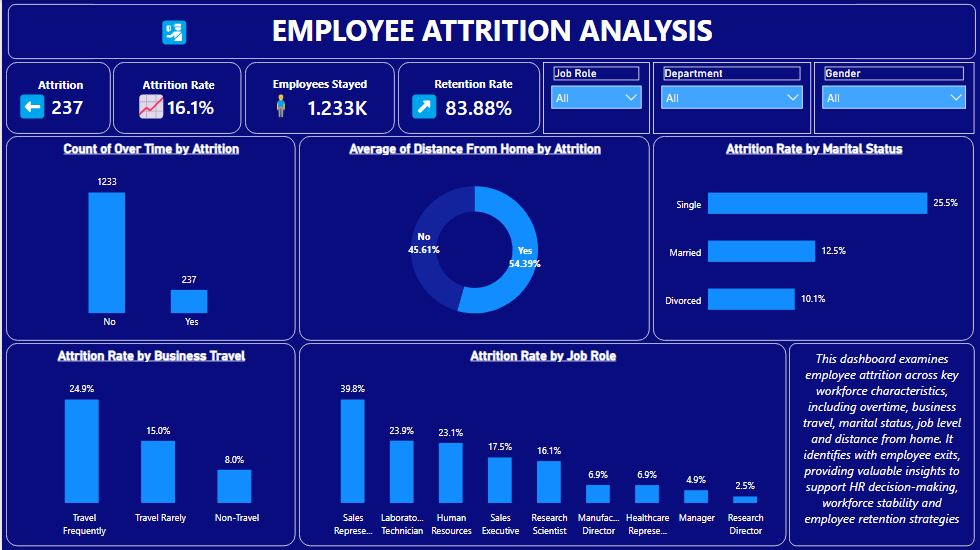

The page's visual inventory and layout, read from the dashboard file:
{"tool":"powerbi","page":{"name":"Employee Attrition Analysis","canvas":[1280,720],"ordinal":2},"visuals":[{"type":"cardVisual","fields":{"Data":["HR Measure.Employees Who Left"]},"box":[5.8,80.6,136.8,93.6],"z":0},{"type":"cardVisual","fields":{"Data":["HR Measure.Attrition Rate"]},"box":[145.4,80.6,168.5,93.6],"z":1000},{"type":"cardVisual","fields":{"Data":["HR Measure.Employees Who Stayed"]},"box":[318.2,80.6,195.8,93.6],"z":2000},{"type":"cardVisual","fields":{"Data":["HR Measure.Retention Rate"]},"box":[518.4,80.6,185.8,93.6],"z":3000},{"type":"textbox","box":[7.2,5.8,1267.2,72],"z":4000},{"type":"clusteredColumnChart","fields":{"Category":["HR Data.Attrition"],"Y":["CountNonNull(HR Data.Over Time)"]},"box":[5.8,178.6,378.7,267.8],"z":5000},{"type":"clusteredColumnChart","fields":{"Y":["HR Measure.Attrition Rate"],"Category":["HR Data.Business Travel"]},"box":[5.8,449.3,378.7,266.4],"z":6000},{"type":"clusteredBarChart","fields":{"Category":["HR Data.Marital Status"],"Y":["HR Measure.Attrition Rate"]},"box":[852.5,178.6,420.5,267.8],"z":7000},{"type":"clusteredColumnChart","fields":{"Y":["HR Measure.Attrition Rate"],"Category":["HR Data.Job Role"]},"box":[388.8,449.3,637.9,266.4],"z":8000},{"type":"donutChart","fields":{"Category":["HR Data.Attrition"],"Y":["Avg(HR Data.Distance From Home)"]},"box":[388.8,178.6,459.4,267.8],"z":9000},{"type":"slicer","fields":{"Values":["HR Data.Department"]},"box":[852.5,80.6,207.4,93.6],"z":10000},{"type":"slicer","fields":{"Values":["HR Data.Job Role"]},"box":[708.5,80.6,139.7,93.6],"z":11000},{"type":"slicer","fields":{"Values":["HR Data.Gender"]},"box":[1062.7,80.6,210.2,93.6],"z":12000},{"type":"textbox","box":[1029.6,449.3,243.4,266.4],"z":13000},{"type":"textbox","box":[5.8,109.4,69.1,56.2],"z":14000},{"type":"textbox","box":[161.3,109.4,69.1,56.2],"z":15000},{"type":"textbox","box":[331.2,109.4,69.1,56.2],"z":16000},{"type":"textbox","box":[518.4,109.4,69.1,56.2],"z":17000},{"type":"textbox","box":[191.5,13,69.1,56.2],"z":18000}]}

Visuals, with their boxes in screenshot pixels (x1, y1, x2, y2), scaled from the page's 1280x720 canvas onto the 980x550 screenshot:
cardVisual - HR Measure.Employees Who Left: box=[4, 62, 109, 133]
cardVisual - HR Measure.Attrition Rate: box=[111, 62, 240, 133]
cardVisual - HR Measure.Employees Who Stayed: box=[244, 62, 394, 133]
cardVisual - HR Measure.Retention Rate: box=[397, 62, 539, 133]
textbox: box=[6, 4, 976, 59]
clusteredColumnChart - HR Data.Attrition x CountNonNull(HR Data.Over Time): box=[4, 136, 294, 341]
clusteredColumnChart - HR Measure.Attrition Rate x HR Data.Business Travel: box=[4, 343, 294, 547]
clusteredBarChart - HR Data.Marital Status x HR Measure.Attrition Rate: box=[653, 136, 975, 341]
clusteredColumnChart - HR Measure.Attrition Rate x HR Data.Job Role: box=[298, 343, 786, 547]
donutChart - HR Data.Attrition x Avg(HR Data.Distance From Home): box=[298, 136, 649, 341]
slicer - HR Data.Department: box=[653, 62, 811, 133]
slicer - HR Data.Job Role: box=[542, 62, 649, 133]
slicer - HR Data.Gender: box=[814, 62, 975, 133]
textbox: box=[788, 343, 975, 547]
textbox: box=[4, 84, 57, 127]
textbox: box=[123, 84, 176, 127]
textbox: box=[254, 84, 306, 127]
textbox: box=[397, 84, 450, 127]
textbox: box=[147, 10, 200, 53]
